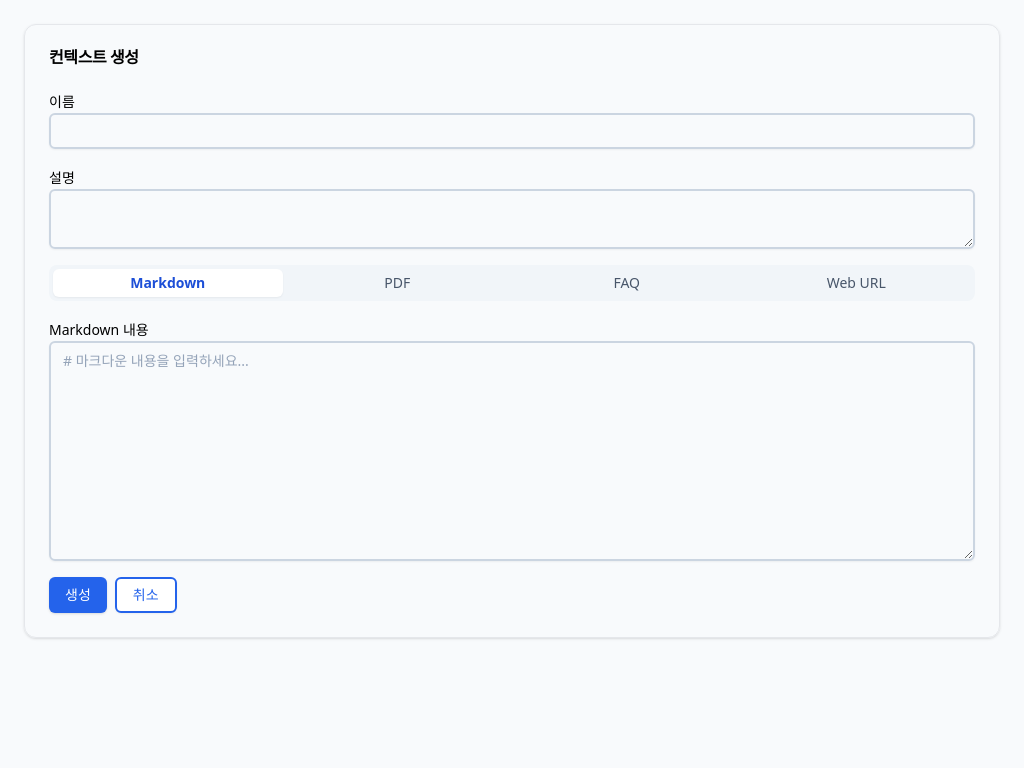
Test: ContextCreate › should switch tabs
Click the tab "PDF": {"x": 397, "y": 283} [282,269,512,297]
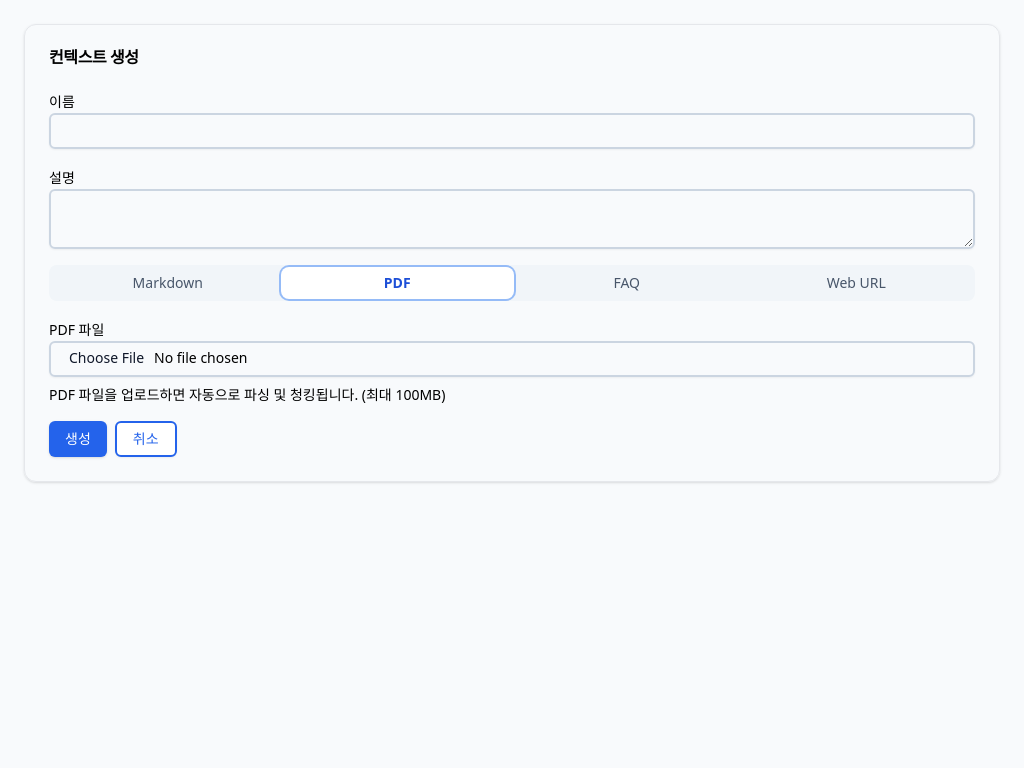
Expected: the file field labelled "PDF 파일" is shown, [49,341,975,377]
